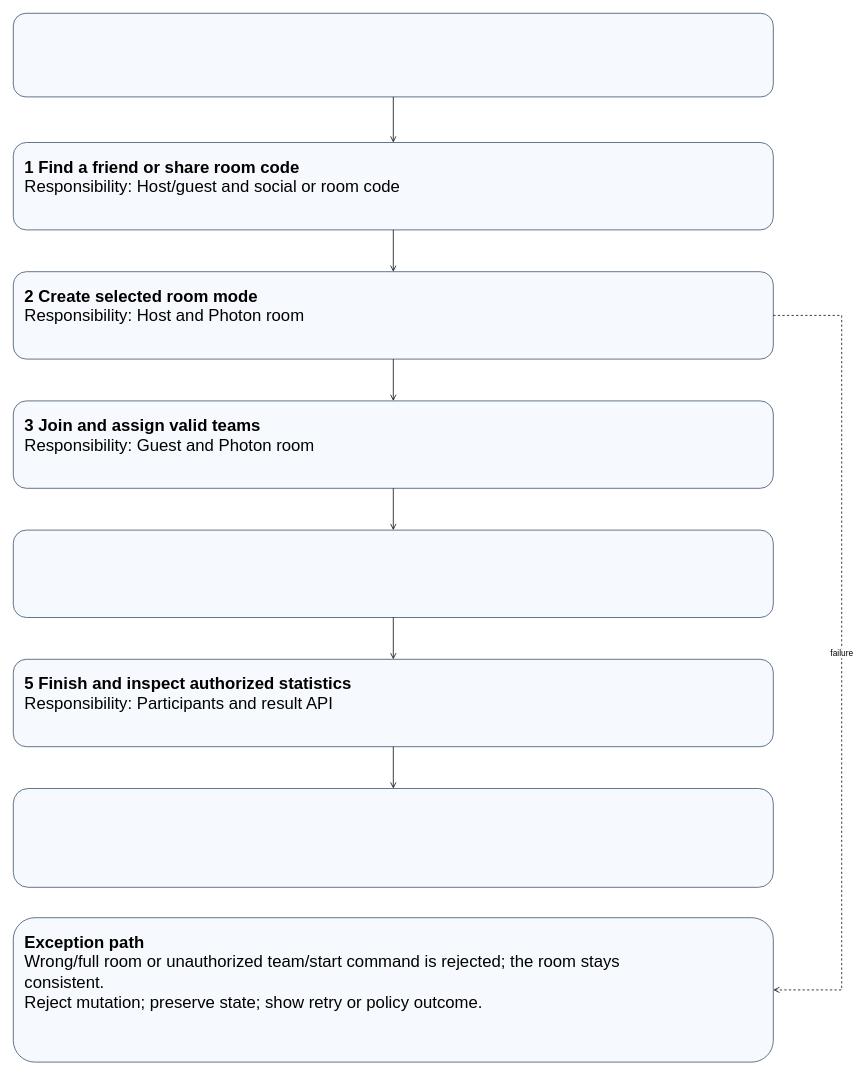
Some shapes in this 866 by 1075 pixel diagram are drawn without their labels. The shapes that lost their labels are listed below. From the top down, each one's centre as x and y in pixels, then its label:
At point (393, 55): "Trigger Actor: Room host, Invited player".
At point (393, 573): "4 Confirm ready roster and start Responsibility: Host and canonical ready API".
At point (393, 837): "Business outcome A coded room starts with the declared 1v1 or 2v2 roster.".
